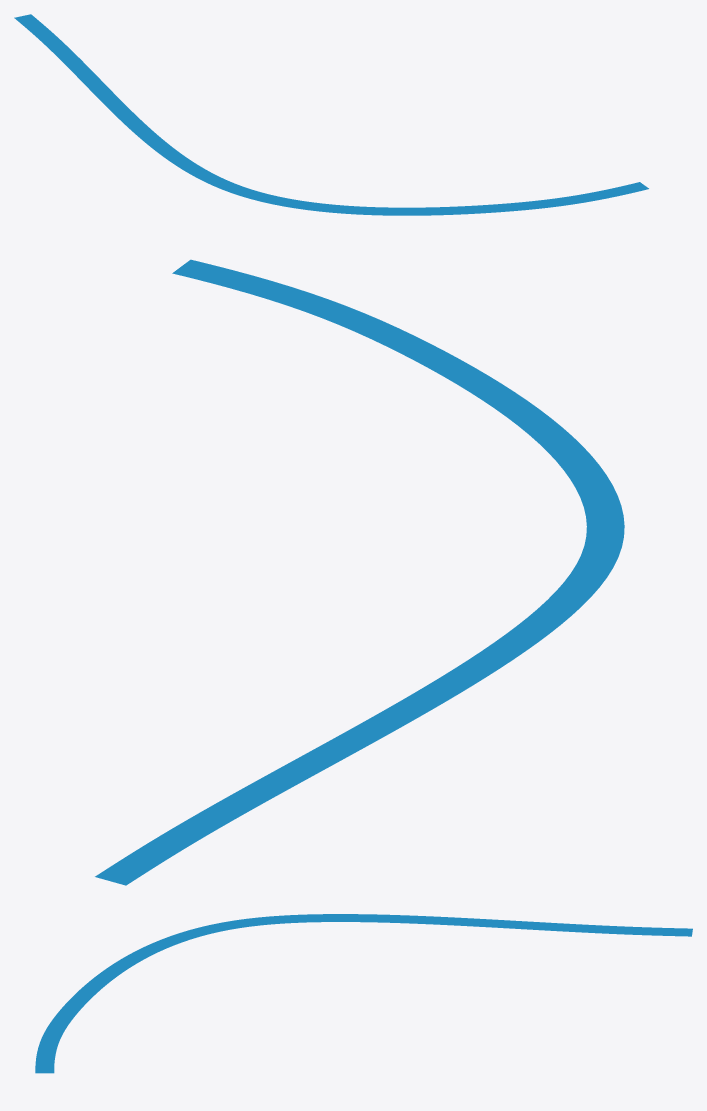
Rendered from guide.glb.
3 renders of one model, top to bottom at view 1: azimuth 30°, elevation 25°; view 2: azimuth 150°, elevation 25°; view 3: azimuth 270°, elevation 25°, orthographic. The views are drawn at different scales.
Visible parts, largest first — view 1: static; view 2: static; view 3: static.
Part boxes in pixels (x1,y1,x2,y2): static: (14, 14, 648, 215); static: (95, 259, 624, 885); static: (35, 914, 692, 1073).
Size of the model in its own units: 7.34 by 0 by 11.52.
